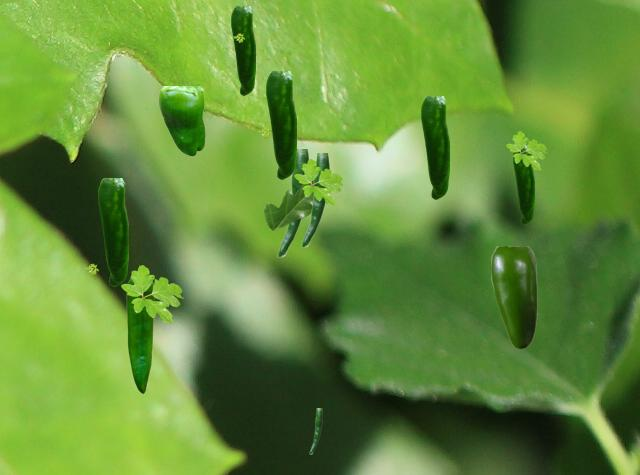green_chili: (491, 246, 536, 348), (277, 149, 308, 256), (158, 86, 204, 155), (98, 178, 127, 285), (266, 71, 295, 178), (126, 278, 153, 392), (421, 96, 448, 198), (301, 153, 328, 246), (231, 6, 254, 94), (513, 145, 533, 223), (309, 408, 321, 453)
